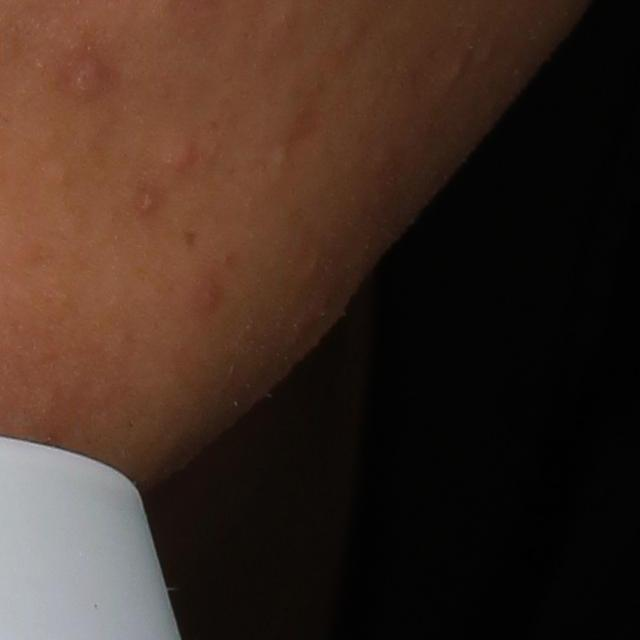comedo: (446, 55, 471, 87), (271, 139, 293, 169)
papule: (65, 56, 110, 99), (160, 135, 197, 180)
